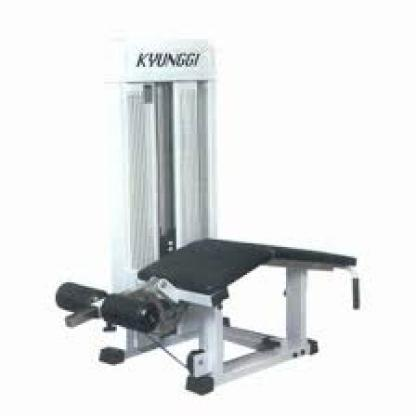reg curl machine: (52, 36, 368, 394)
